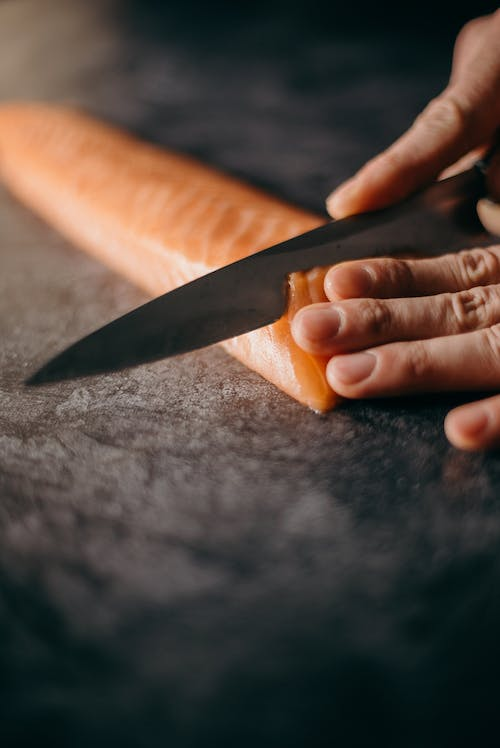knife: (16, 147, 500, 392)
